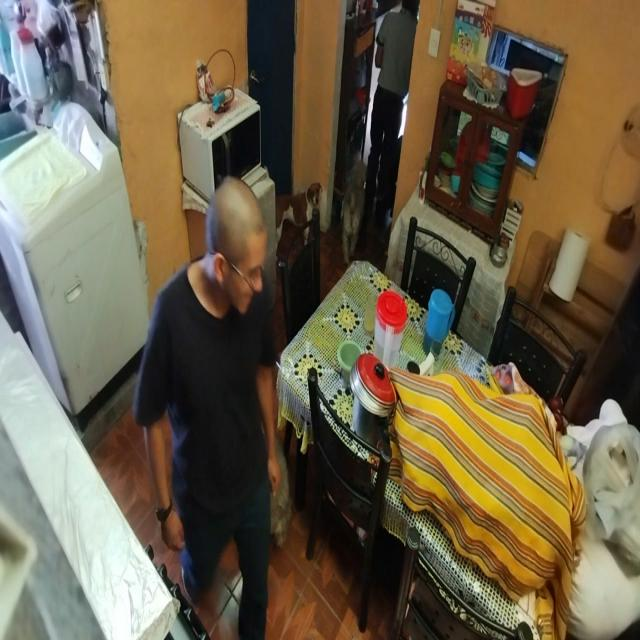adult: (134, 181, 292, 640), (360, 0, 421, 228)
